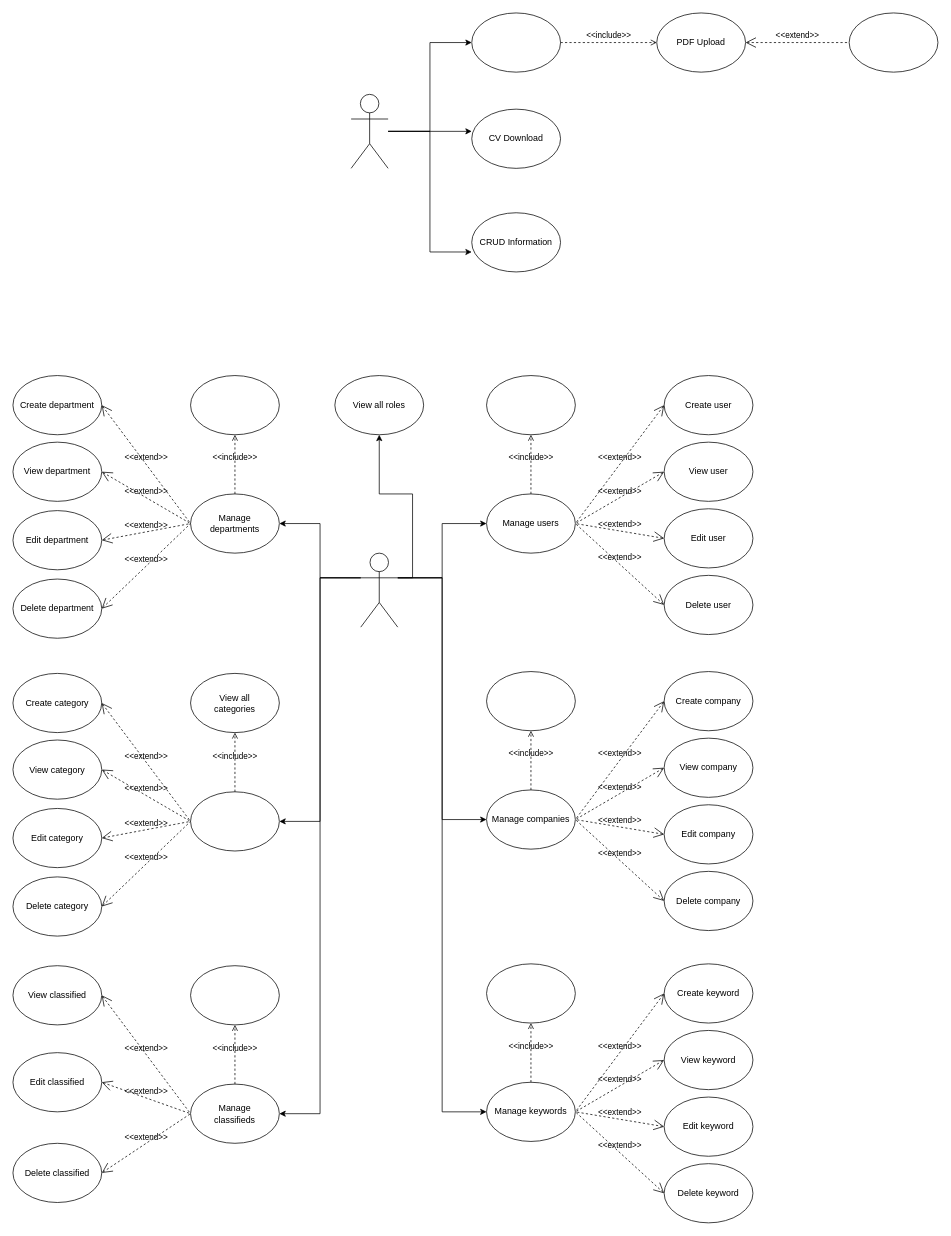
Image size: 951x1236. Some labels were removed from this diagram. The shapes that lost their labels are listed below. From the top down, each one's box as (x1, y1, x2, y2) in pixels, then its label:
(471, 12, 561, 72): CV Upload
(848, 12, 938, 72): Keywords Selection
(350, 94, 388, 168): Student
(190, 375, 279, 435): View all departments
(486, 375, 575, 435): View all users
(360, 552, 398, 627): Super Admin
(486, 671, 575, 731): View all companies
(190, 791, 279, 851): Manage categories
(190, 965, 279, 1025): View all classifieds
(486, 963, 575, 1023): View all keywords
